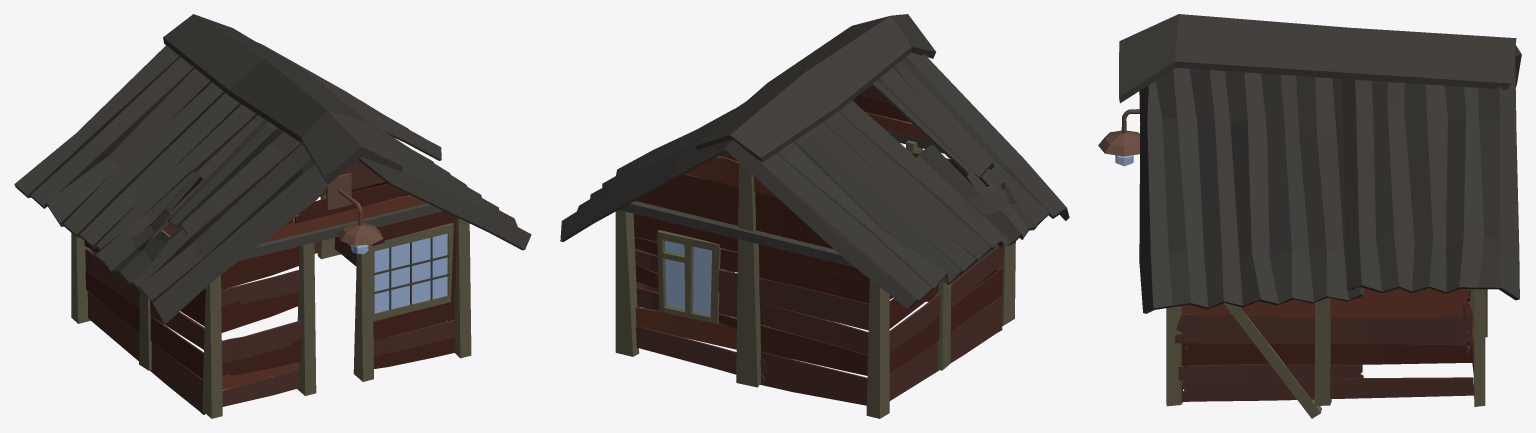
Rendered from Barn.fbx.
3 renders of one model, left to right at view 1: azimuth 30°, elevation 25°; view 2: azimuth 150°, elevation 25°; view 3: azimuth 270°, elevation 25°, orthographic. The views are drawn at different scales.
Visible parts, largest first — view 1: Shed.001; view 2: Shed.001; view 3: Shed.001.
Part boxes in pixels (x1,y1,x2,y2): Shed.001: [14, 14, 531, 418]; Shed.001: [560, 14, 1069, 418]; Shed.001: [1098, 14, 1521, 418].
Bounding box in the file's own units: 83.58 × 61.69 × 72.15.
